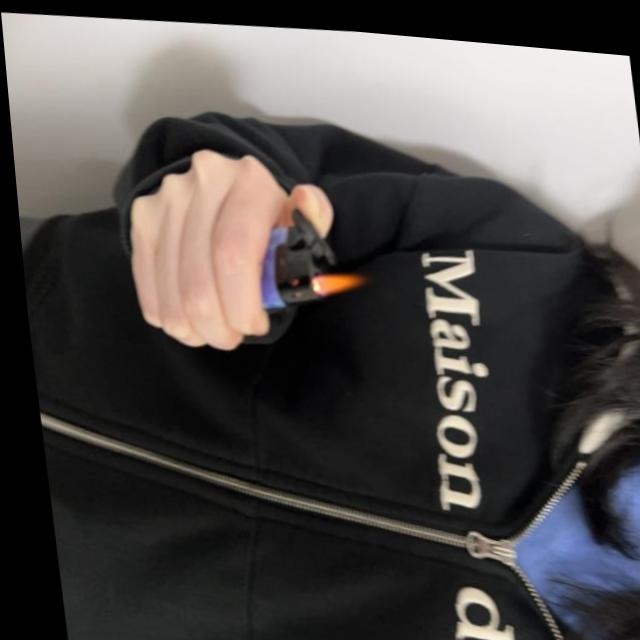Fire: (303, 262, 362, 294)
